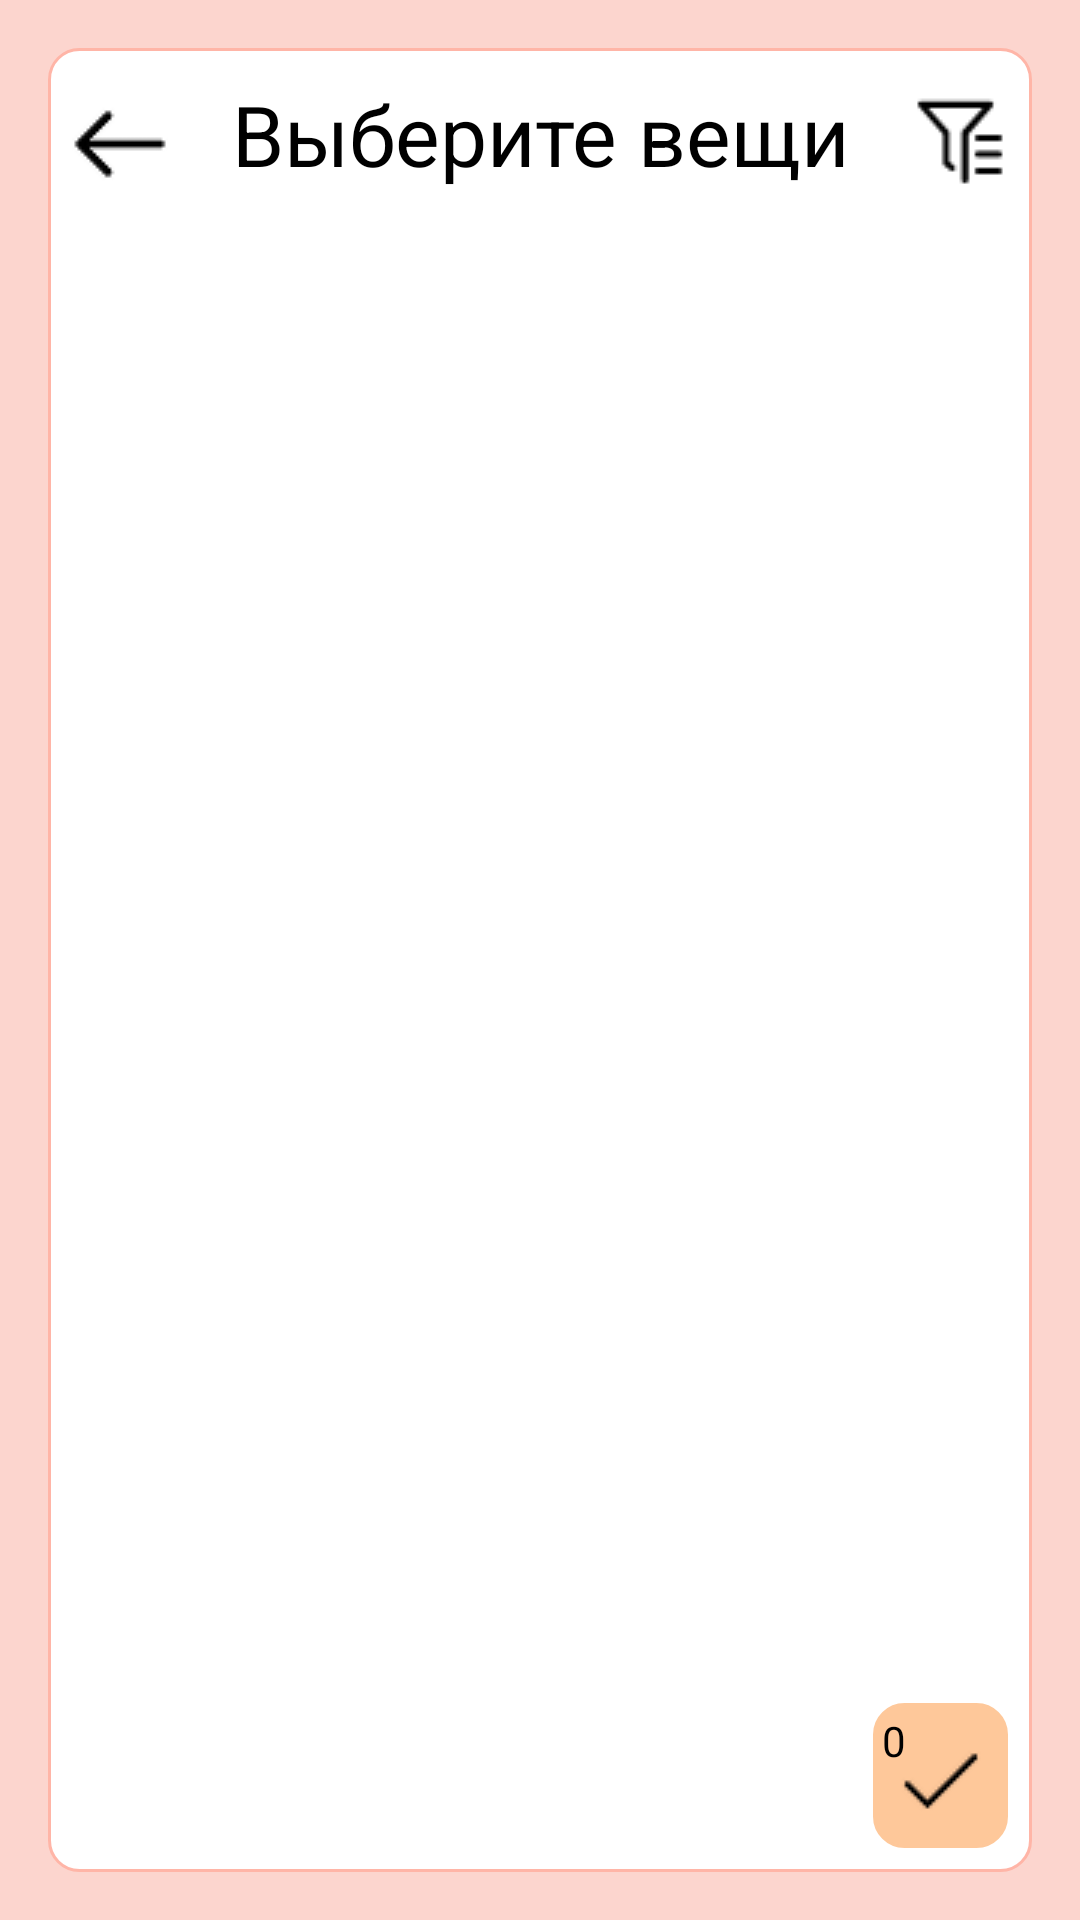

Icon bounding boxes for this 1080×1920 phone screenshot, format (x1, y1, x2, y2):
back: (74, 110, 166, 178)
check: (873, 1713, 1008, 1848)
filter: (917, 99, 1003, 184)
